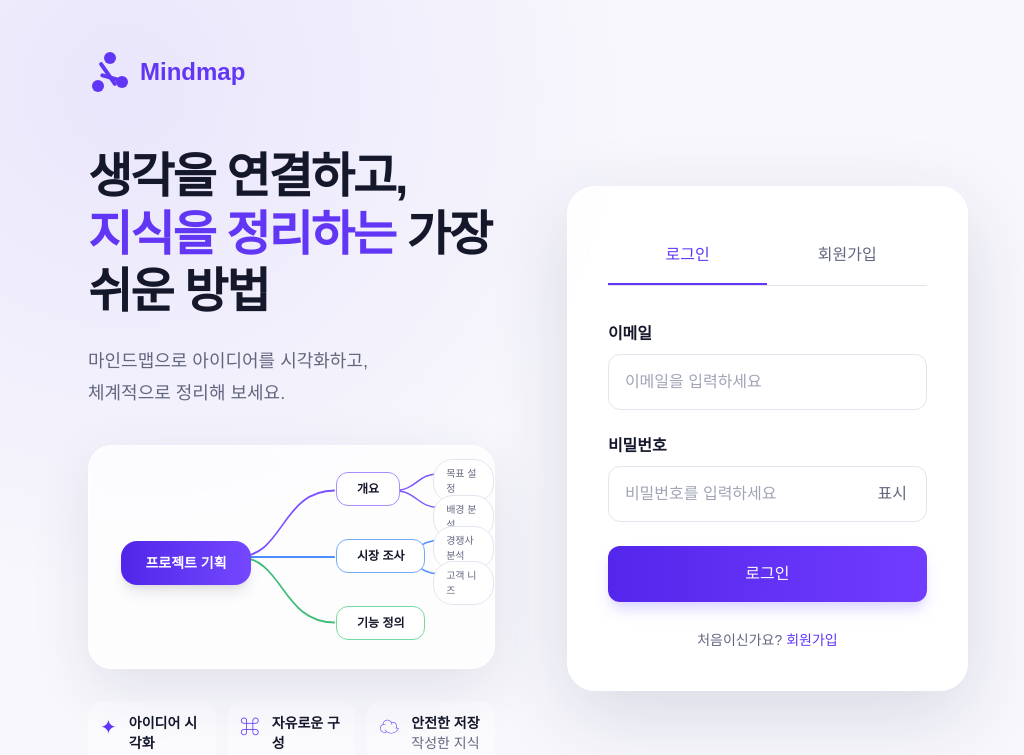
Test: AuthScreen › switches modes and validates controlled inputs
Click the tab "회원가입" at (847, 256), box [767,227,927,285]
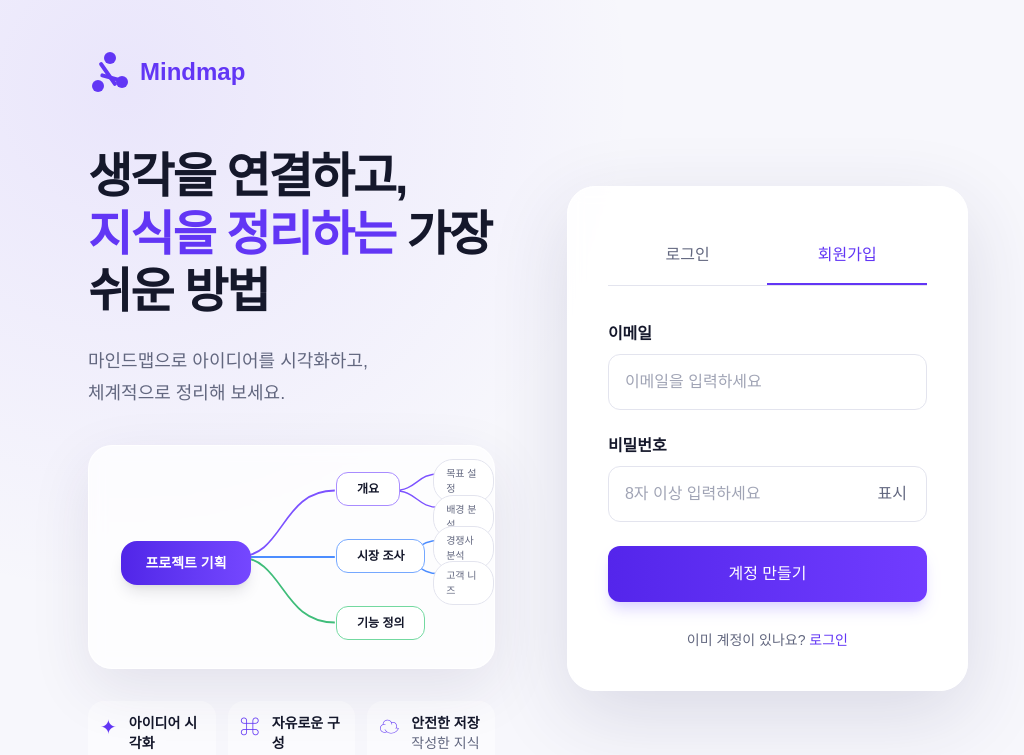
Type "bad" into the field labelled "이메일" at (767, 382), box [608,354,927,410]
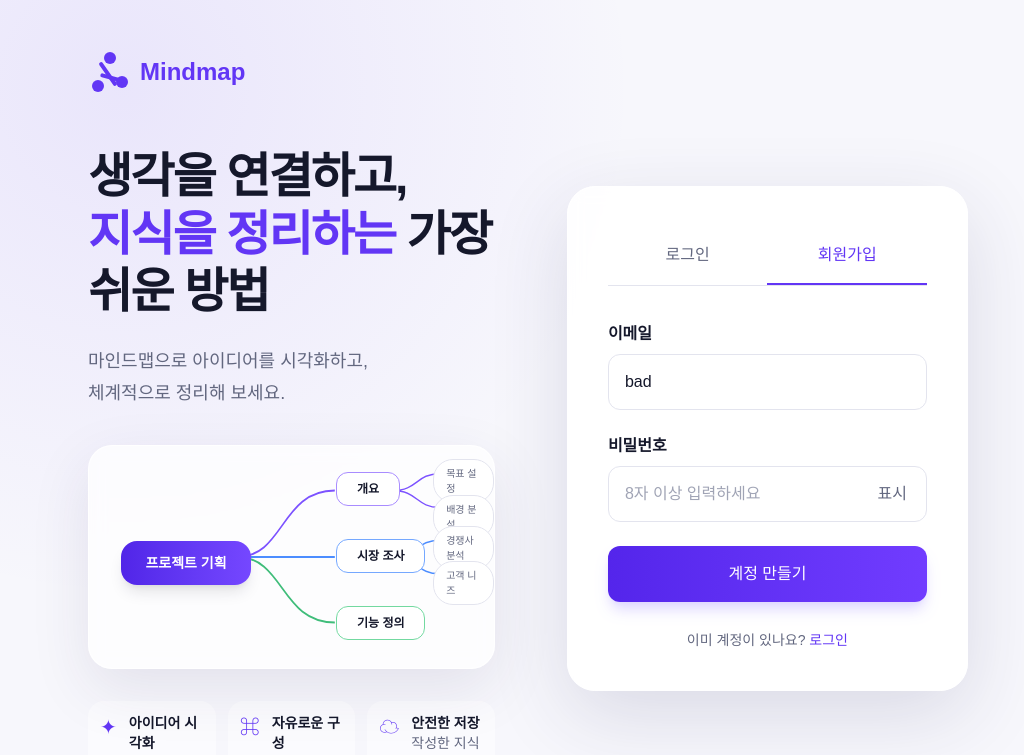
Type "short" into the password field labelled "비밀번호" at (767, 494), box [608,466,927,522]
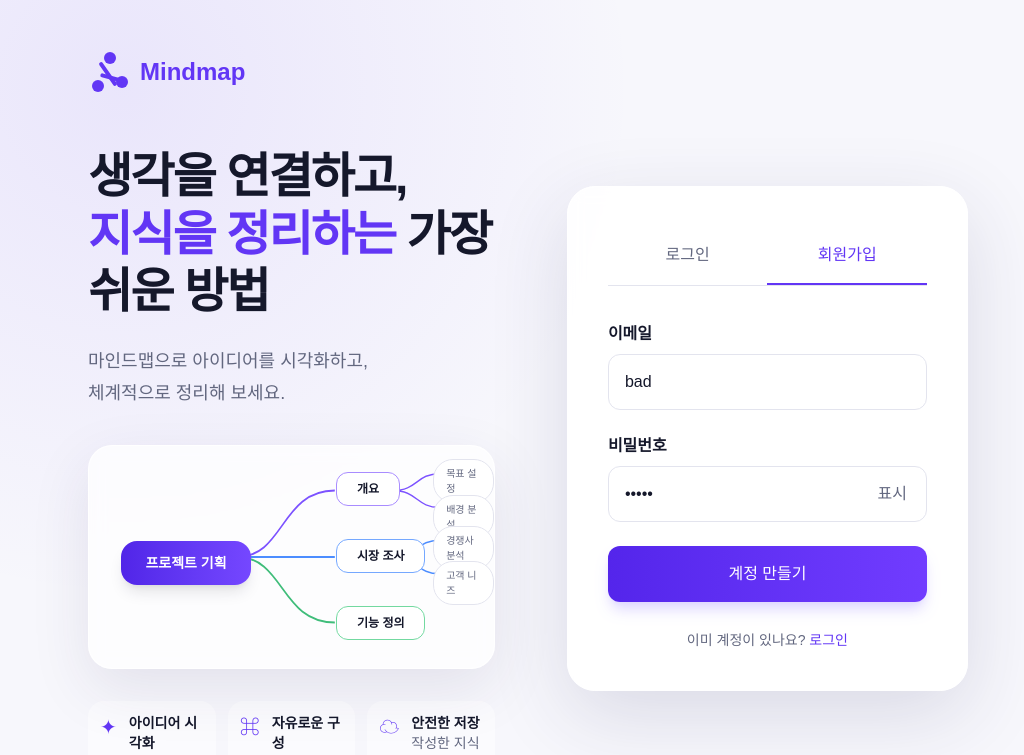
Click the button "계정 만들기" at (767, 574), box [608,546,927,602]
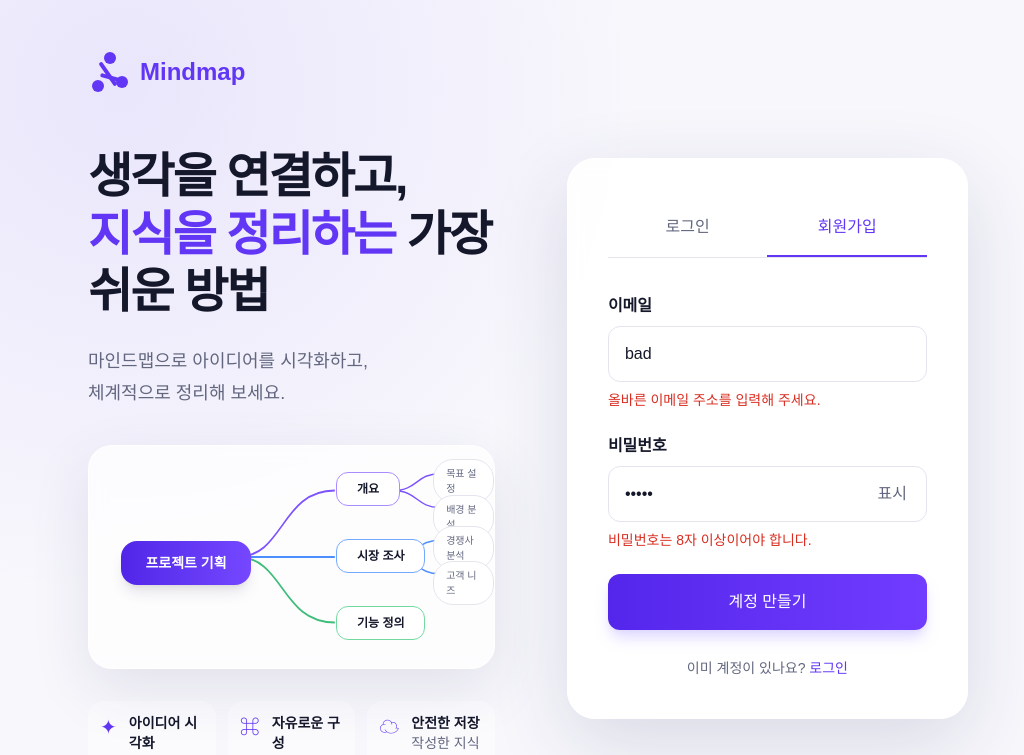
Expected: the text "올바른 이메일 주소를 입력해 주세요." is shown, [608,392,821,408]
Expected: the text "비밀번호는 8자 이상이어야 합니다." is shown, [608,532,812,548]
